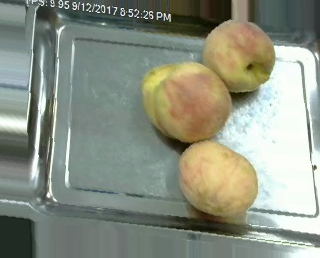Peach: (140, 61, 231, 142), (179, 139, 258, 220), (201, 20, 276, 95)
